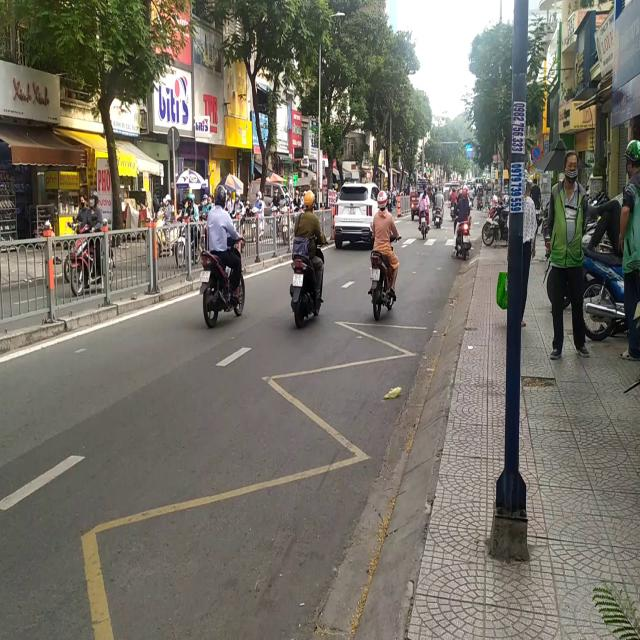bien_trang: (199, 268, 210, 282), (293, 272, 302, 286), (370, 267, 379, 279), (348, 205, 356, 216)
